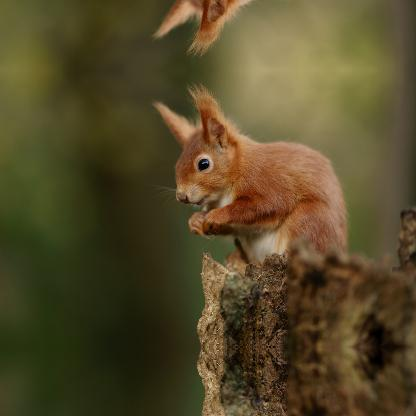Squirrel: (149, 80, 349, 272), (149, 0, 350, 59)
